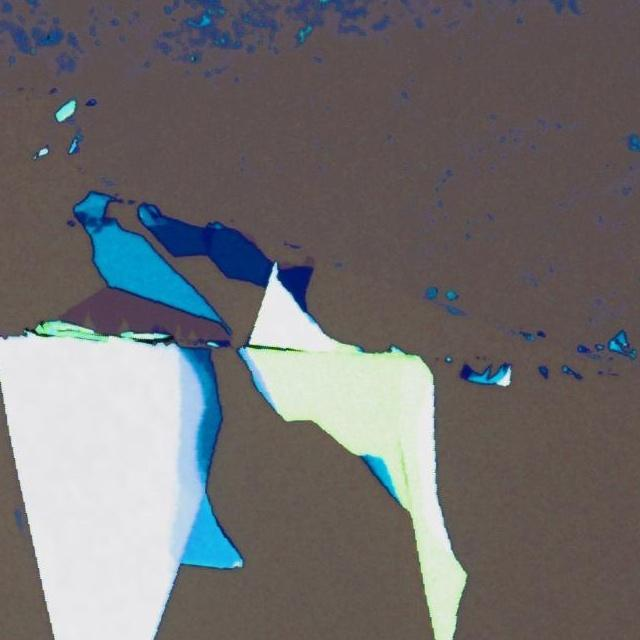monolayer-eWW4: (59, 284, 230, 343)
